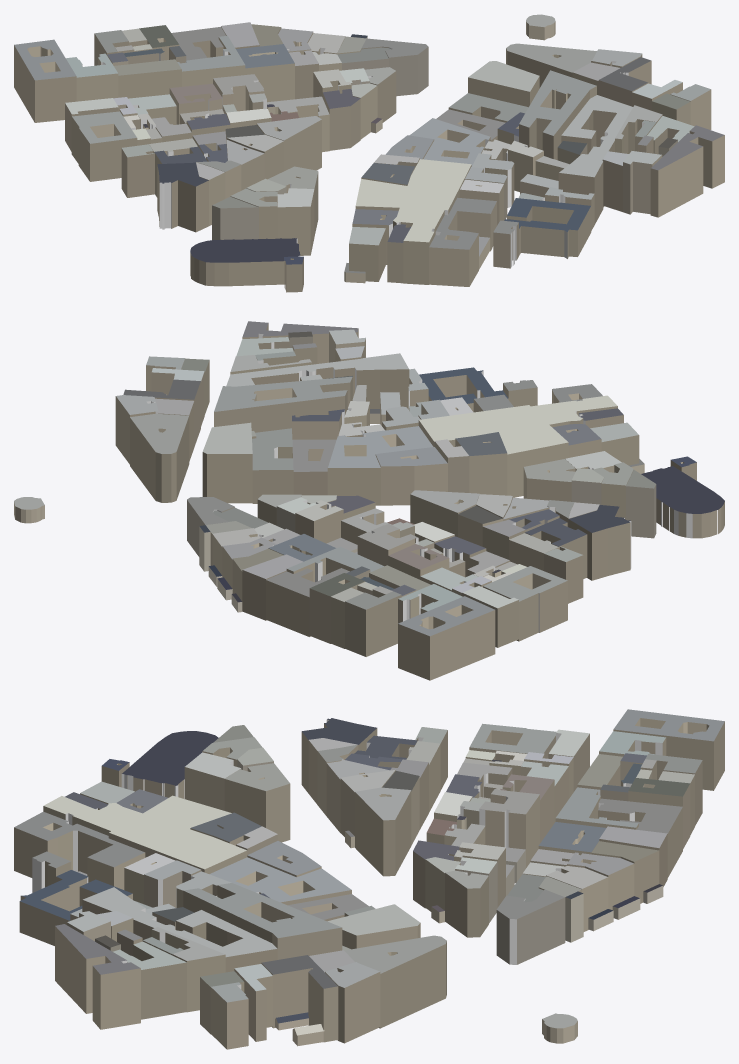
3 renders of one model, top to bottom at view 1: azimuth 30°, elevation 25°; view 2: azimuth 150°, elevation 25°; view 3: azimuth 270°, elevation 25°, orthographic. The views are drawn at different scales.
Parts seen in each view (by area): view 1: tuile; view 2: tuile; view 3: tuile.
Part boxes in pixels (x1,y1,x2,y2): tuile: (14, 14, 724, 292); tuile: (14, 321, 724, 680); tuile: (14, 709, 724, 1049).
Size of the model in its own units: 283 by 30.9 by 281.
